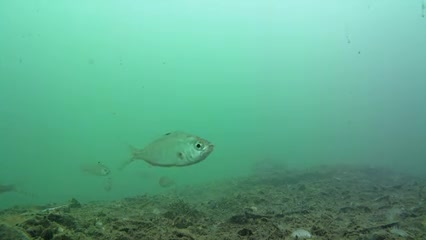smallfish: (120, 125, 219, 175)
